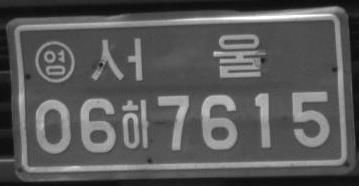0: (34, 97, 72, 155)
1: (246, 92, 279, 149)
5: (291, 89, 331, 149)
6: (199, 93, 239, 151), (79, 96, 117, 154)
7: (157, 93, 191, 151)
서울_D: (88, 31, 268, 81)
영: (35, 40, 76, 84)
하: (120, 99, 152, 148)
